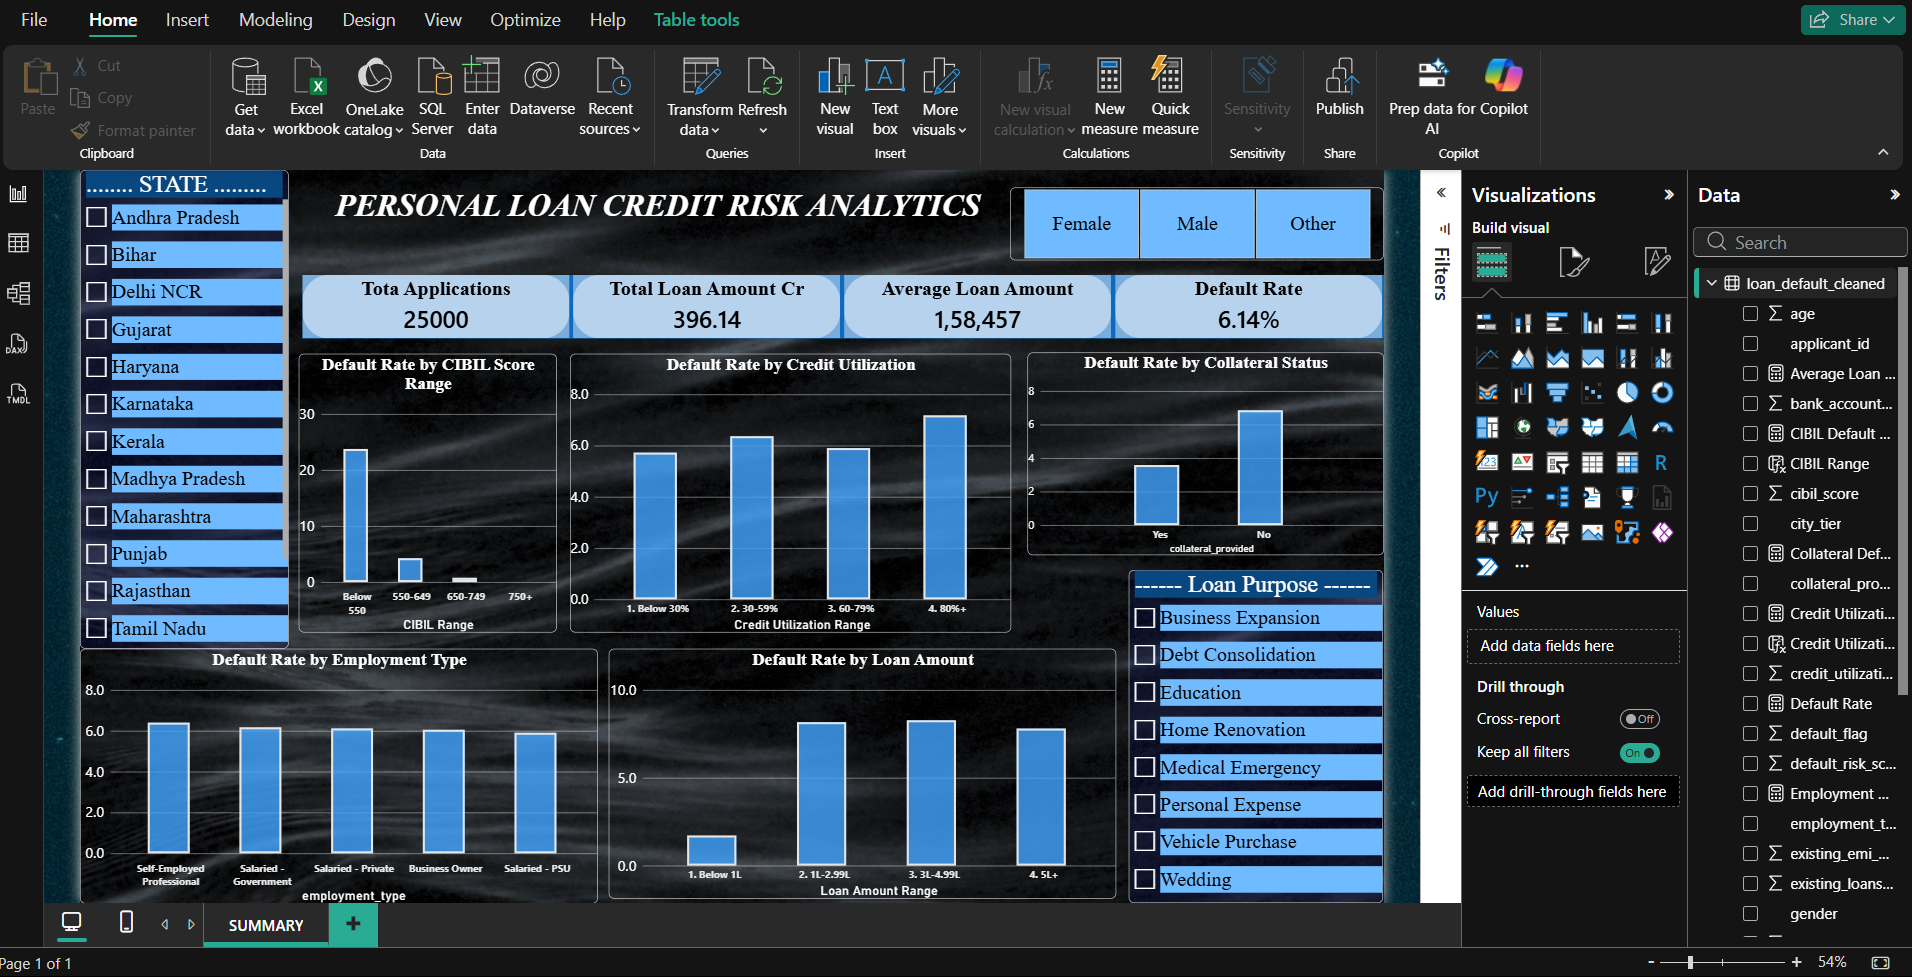

This screenshot's page, from the dashboard's own definition file:
{"tool":"powerbi","page":{"name":"Page 1","canvas":[1920,1080],"ordinal":0},"visuals":[{"type":"cardVisual","fields":{"Data":["loan_default_cleaned.Tota Applications","loan_default_cleaned.Total loan Amount","loan_default_cleaned.Average Loan Default","loan_default_cleaned.Default Rate"]},"box":[327.9,153.9,1592.6,93.7],"z":0},{"type":"clusteredColumnChart","title":"Default Rate by Loan Amount","fields":{"Y":["loan_default_cleaned.Loan Amount Default Rate"],"Category":["loan_default_cleaned.Loan Amount Range"]},"box":[850,705,675,367.5],"z":1000},{"type":"clusteredColumnChart","title":"Default Rate by CIBIL Score Range","fields":{"Category":["loan_default_cleaned.CIBIL Range"],"Y":["loan_default_cleaned.CIBIL Default Rate"]},"box":[322.5,270,380,410],"z":2000},{"type":"clusteredColumnChart","title":"Default Rate by Employment Type","fields":{"Y":["loan_default_cleaned.Employment Default Rate %"],"Category":["loan_default_cleaned.employment_type"]},"box":[35,705,762.5,375],"z":3000},{"type":"clusteredColumnChart","title":"Default Rate by Credit Utilization","fields":{"Y":["loan_default_cleaned.Credit Utilization Default Rate %"],"Category":["loan_default_cleaned.Credit Utilization Range"]},"box":[1271.4,269.9,649.1,296.7],"z":4000},{"type":"clusteredColumnChart","title":"Default Rate by Collateral Status","fields":{"Y":["loan_default_cleaned.Collateral Default Rate"],"Category":["loan_default_cleaned.collateral_provided"]},"box":[729.4,269.9,524.2,412.6],"z":5000},{"type":"textbox","title":"PERSONAL LOAN CREDIT RISK ANALYTICS","box":[352.5,25,995,57.5],"z":6000},{"type":"slicer","fields":{"Values":["loan_default_cleaned.state"]},"box":[0,0,307.5,705],"z":7000},{"type":"slicer","fields":{"Values":["loan_default_cleaned.gender"]},"box":[1370,25,550,107.5],"z":8000},{"type":"slicer","fields":{"Values":["loan_default_cleaned.loan_purpose"]},"box":[1543.5,588.8,374.7,490.7],"z":9000}]}

Visuals, with their boxes on the page's 1920x1080 design canvas (x1, y1, x2, y2). These are canvas units, not pixel positions in the 1912x977 screenshot, which may show the page scaled, cropped or inside an application window:
cardVisual - loan_default_cleaned.Tota Applications x loan_default_cleaned.Total loan Amount: <bbox>328, 154, 1920, 248</bbox>
"Default Rate by Loan Amount" clusteredColumnChart: <bbox>850, 705, 1525, 1072</bbox>
"Default Rate by CIBIL Score Range" clusteredColumnChart: <bbox>322, 270, 702, 680</bbox>
"Default Rate by Employment Type" clusteredColumnChart: <bbox>35, 705, 798, 1080</bbox>
"Default Rate by Credit Utilization" clusteredColumnChart: <bbox>1271, 270, 1920, 567</bbox>
"Default Rate by Collateral Status" clusteredColumnChart: <bbox>729, 270, 1254, 682</bbox>
"PERSONAL LOAN CREDIT RISK ANALYTICS" textbox: <bbox>352, 25, 1348, 82</bbox>
slicer - loan_default_cleaned.state: <bbox>0, 0, 308, 705</bbox>
slicer - loan_default_cleaned.gender: <bbox>1370, 25, 1920, 132</bbox>
slicer - loan_default_cleaned.loan_purpose: <bbox>1544, 589, 1918, 1080</bbox>
